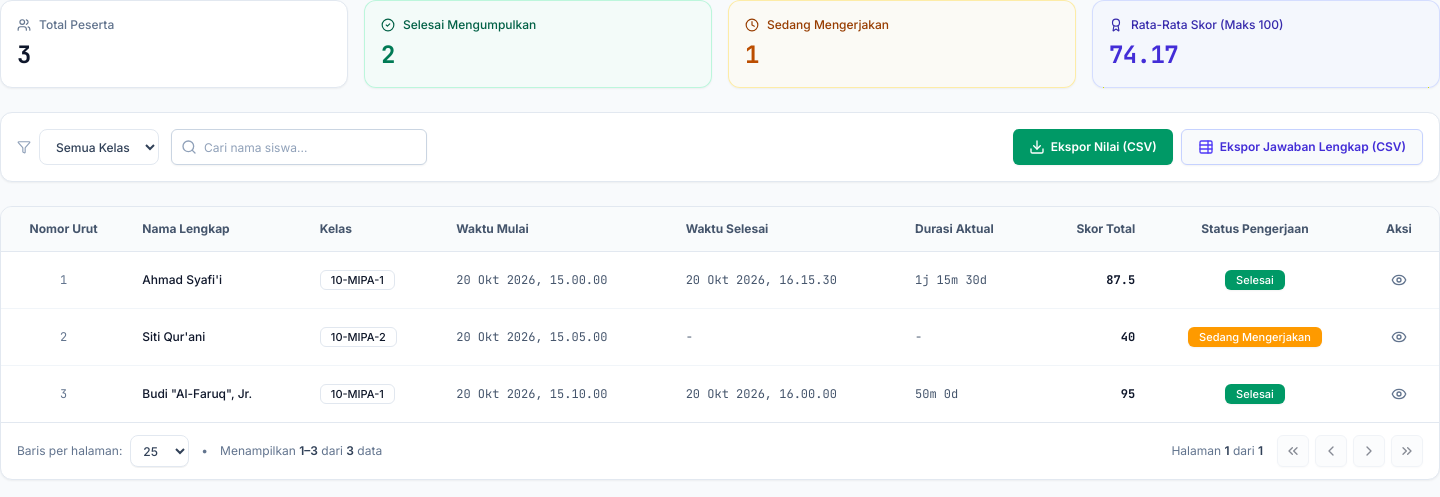
Test: F5-03: Rekapitulasi Nilai & Ekspor Laporan Akademis (ADM-RECP-01) › ExamReportView Component › menyaring daftar peserta secara real-time berdasarkan pencarian nama
Type "syafi'i" into the field labelled "Cari nama siswa".
click(299, 147); type("syafi'i")  # box left=171, top=129, right=427, bottom=165
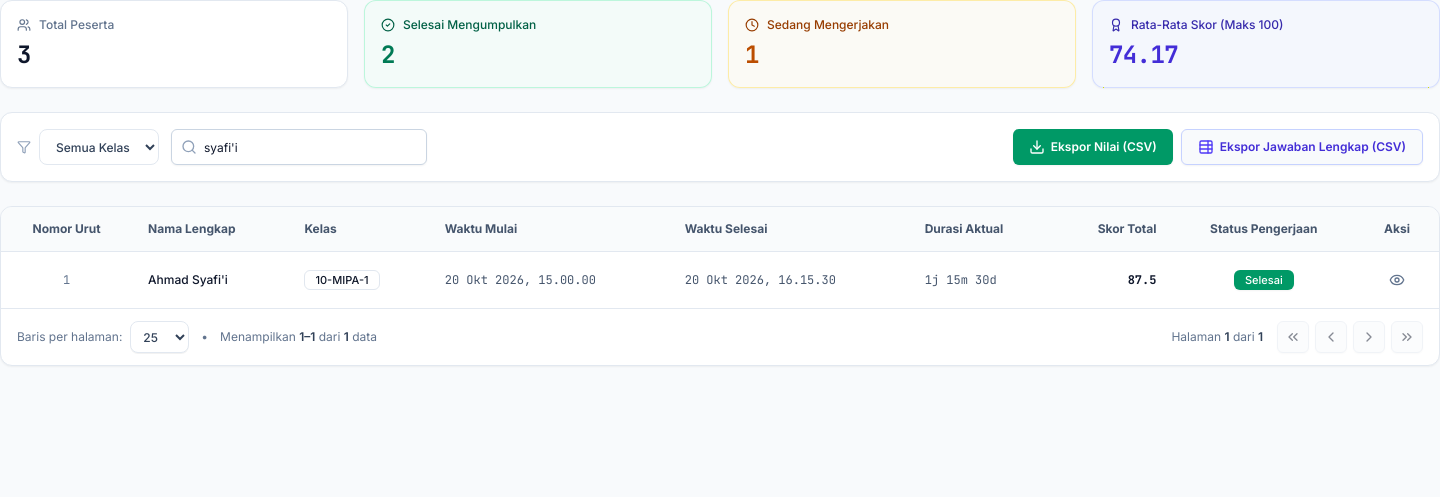
Expected: the text "Ahmad Syafi'i" is shown, left=132, top=252, right=288, bottom=308
Expected: the text "Siti Qur'ani" is gone
Expected: the text "Budi \"Al-Faruq\", Jr." is gone
